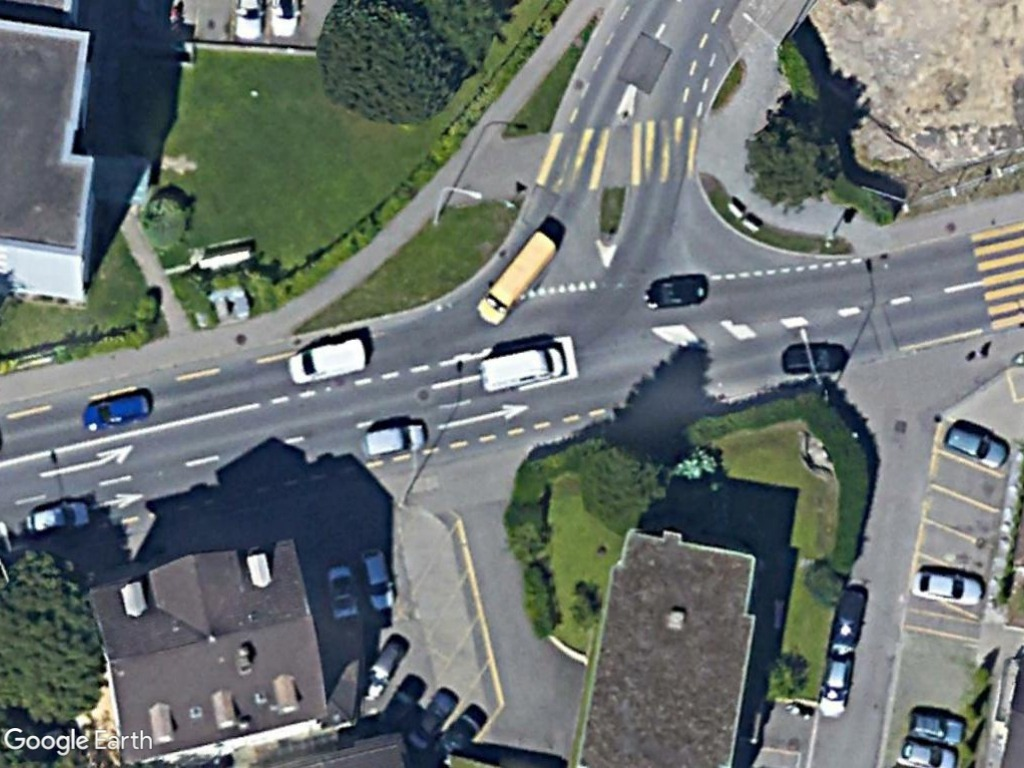car: (943, 423, 1011, 471), (908, 568, 985, 610), (81, 391, 152, 436), (362, 417, 427, 462), (358, 545, 398, 615), (894, 737, 960, 768)
van: (475, 221, 561, 329), (477, 343, 566, 395), (284, 333, 370, 386)
